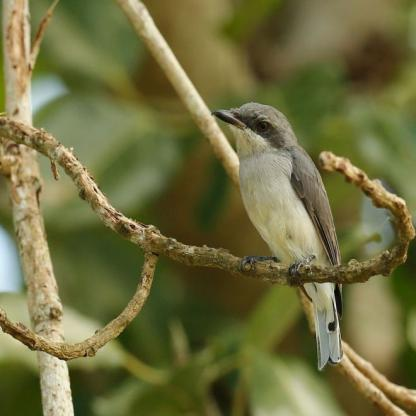Burung: (210, 101, 343, 371)
